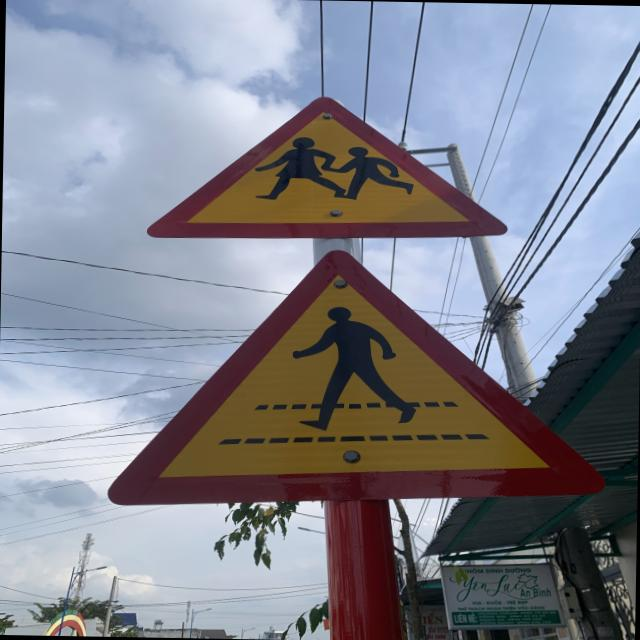Duong_Nguoi_Di_Bo_Sang_Ngang: (108, 243, 610, 514)
Vong_Xuyen: (145, 91, 510, 244)
